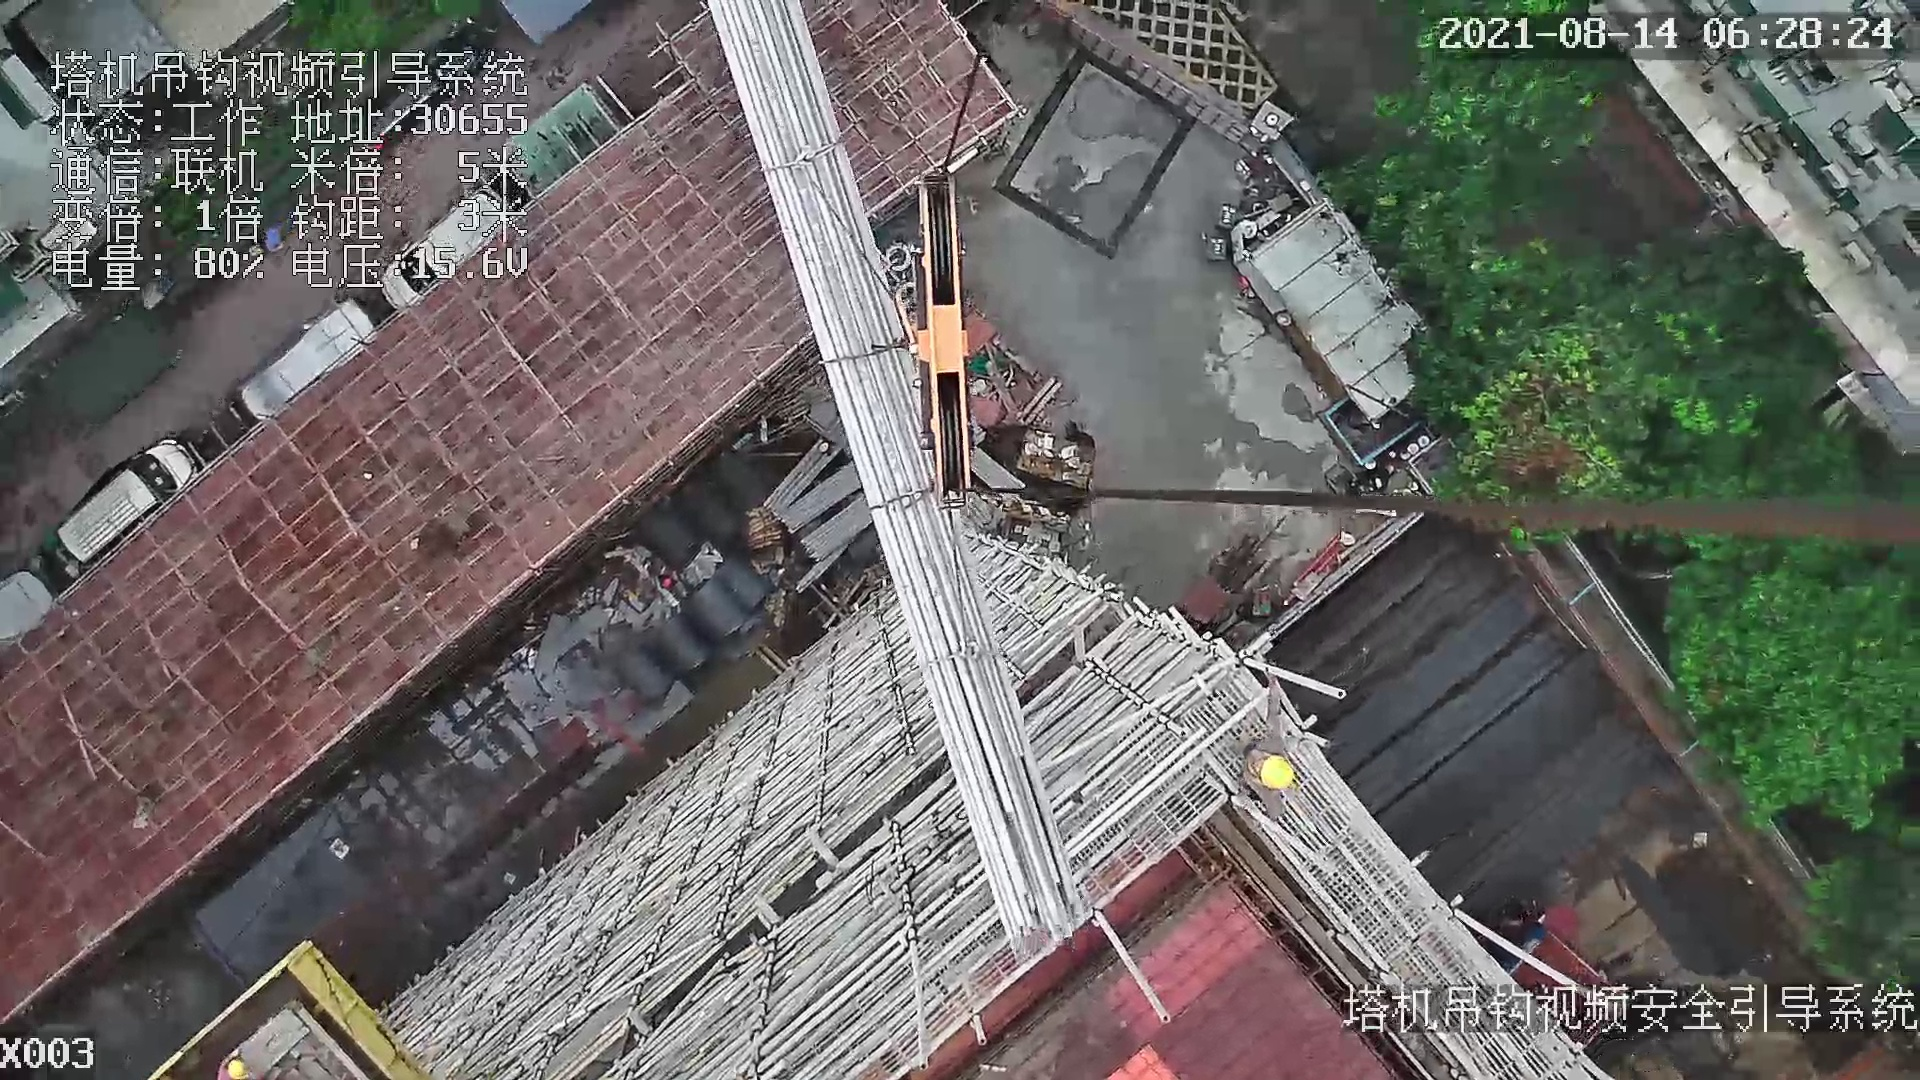helmet: (1259, 739, 1303, 798), (223, 1056, 252, 1076)
hook: (913, 175, 979, 510)
person: (1238, 667, 1291, 825), (209, 1044, 254, 1080)
